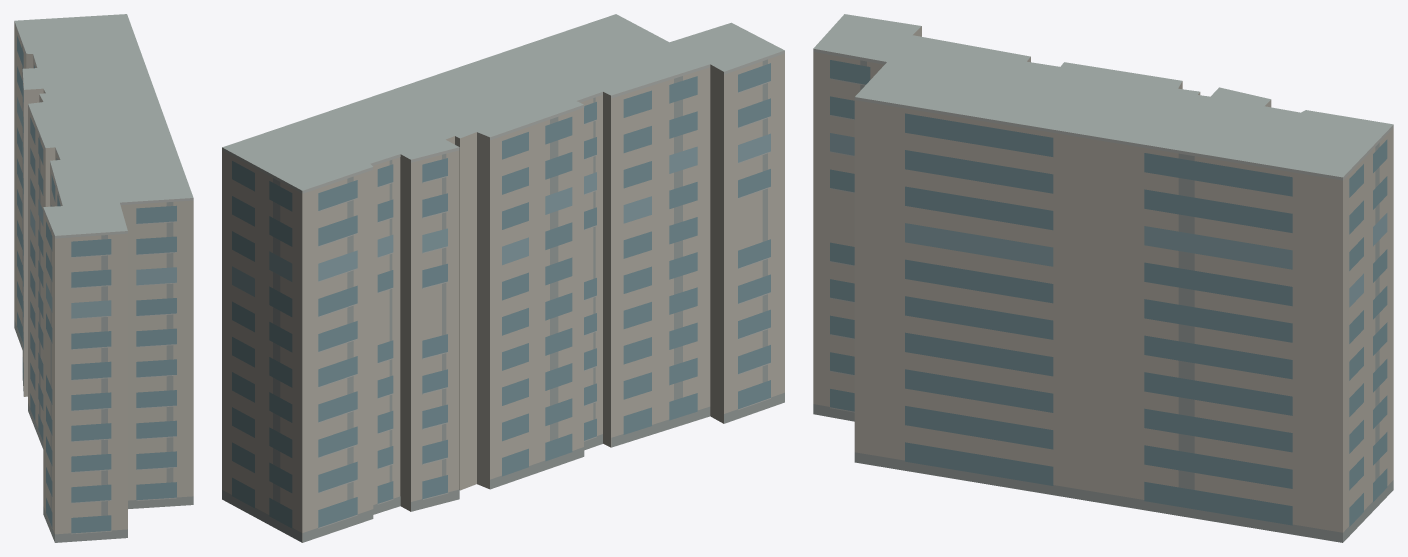
Rendered from survey-upis-32975300.glb.
3 views of the same model, side by side, from view 1: azimuth 30°, elevation 25°; view 2: azimuth 150°, elevation 25°; view 3: azimuth 270°, elevation 25° (orthographic). The views are drawn at different scales.
Visible parts, largest first — view 1: survey-upis-32975300.tmp; view 2: survey-upis-32975300.tmp; view 3: survey-upis-32975300.tmp.
Boxes of the visible parts, box(x1,y1,x2,y2) form: survey-upis-32975300.tmp: box(14, 14, 193, 542); survey-upis-32975300.tmp: box(222, 14, 784, 542); survey-upis-32975300.tmp: box(813, 14, 1393, 542).
Size of the model in its own units: 27.11 by 28.25 by 40.67.
